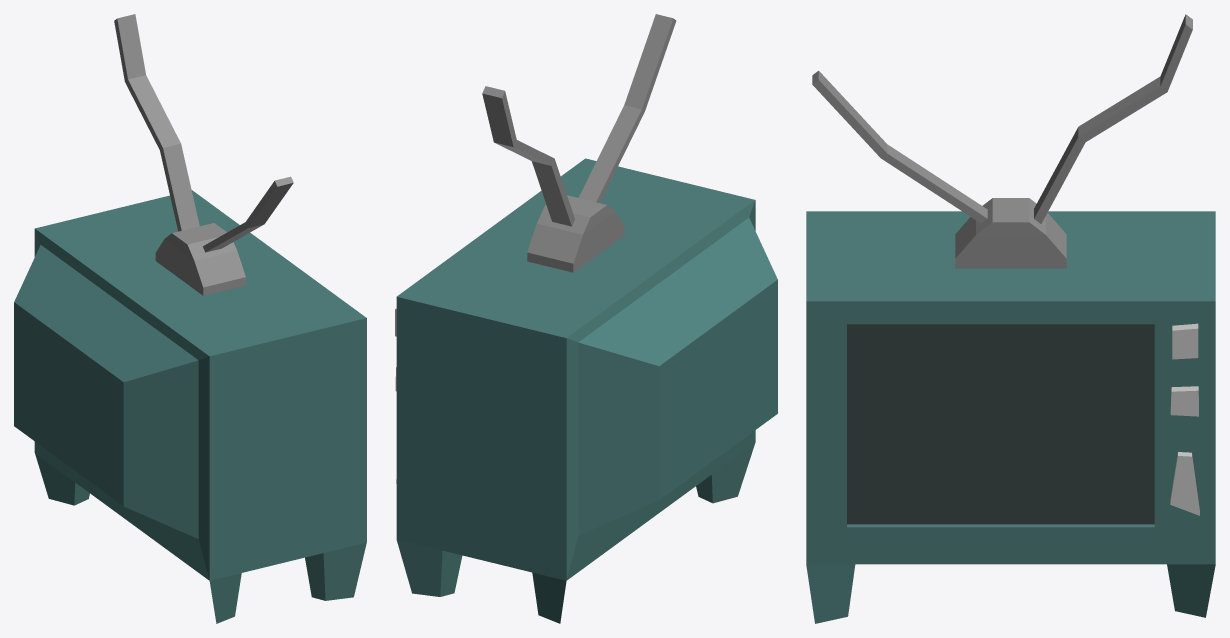
The picture shows the model from 3 angles, left to right: view 1: azimuth 30°, elevation 25°; view 2: azimuth 150°, elevation 25°; view 3: azimuth 270°, elevation 25°; orthographic projection. The views are drawn at different scales.
Parts seen in each view (by area): view 1: Cube; view 2: Cube; view 3: Cube.
Part boxes in pixels (<box>): Cube: <box>14,14,366,623</box>; Cube: <box>395,14,777,623</box>; Cube: <box>806,14,1215,623</box>.
Bounding box in the file's own units: 232 × 488 × 320.
